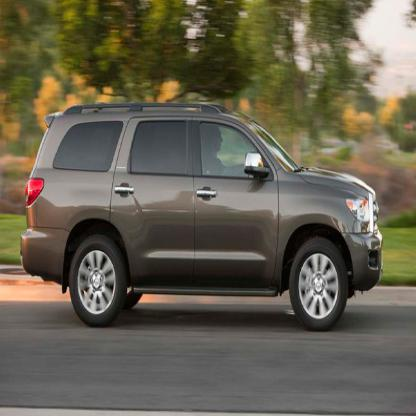Vehicle: (20, 101, 386, 329)
